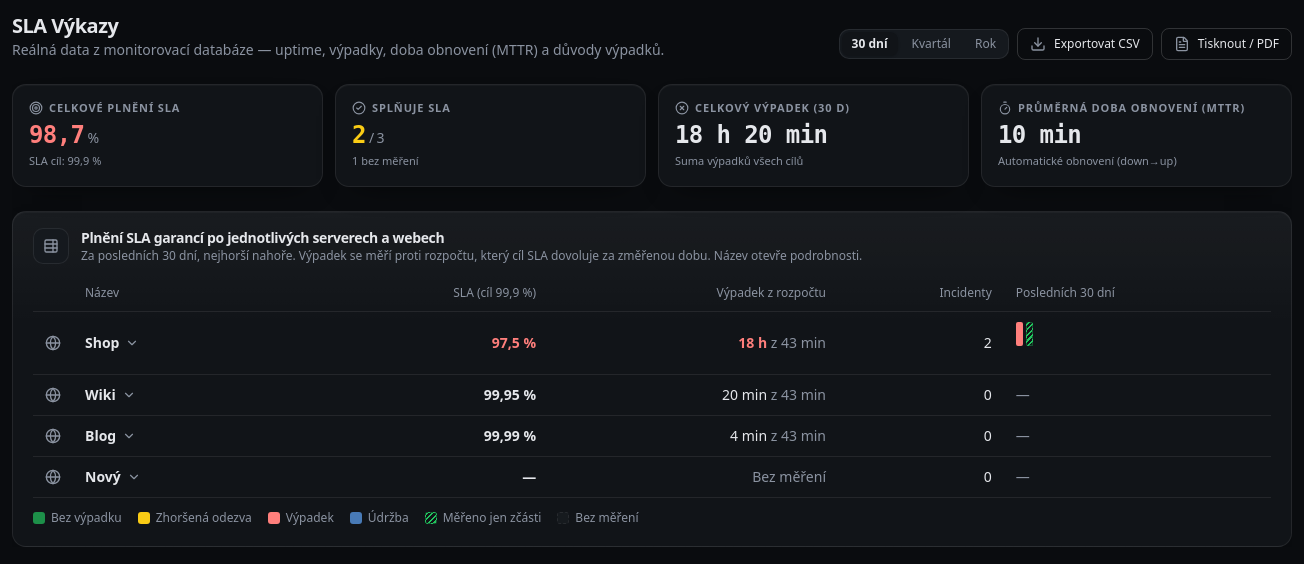
it: SLA výkaz jako jedna tabulka (W2-7) › selhané přepnutí období je chyba s opakováním, ne rada o cronu nad starými čísly
Expected: the button "Shop" is shown, [85, 333, 140, 353]
Click the button "Kvartál".
click(931, 44)  # box [902, 32, 961, 56]
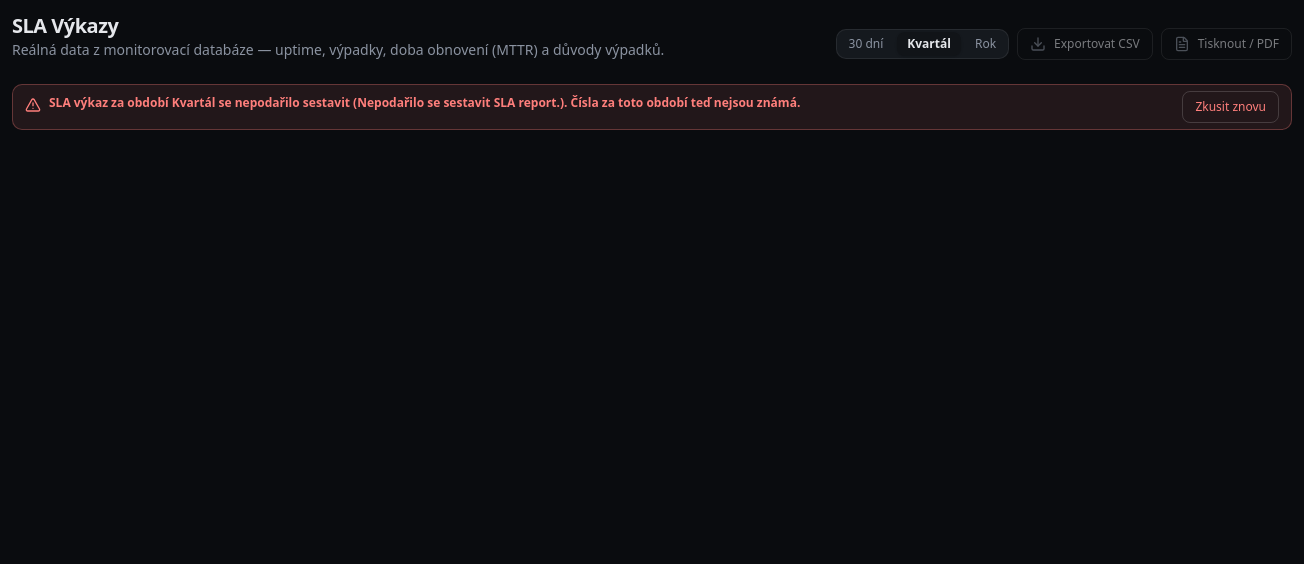
Result: the text "SLA výkaz za období Kvartál se nepodařilo sestavit" shows "Nepodařilo se sestavit SLA report." at [49, 94, 800, 111]
Result: the text "Celkové plnění SLA" is gone
Result: the button "Shop" is gone
Click the button "Zkusit znovu".
click(1231, 107)  # box [1182, 91, 1279, 123]
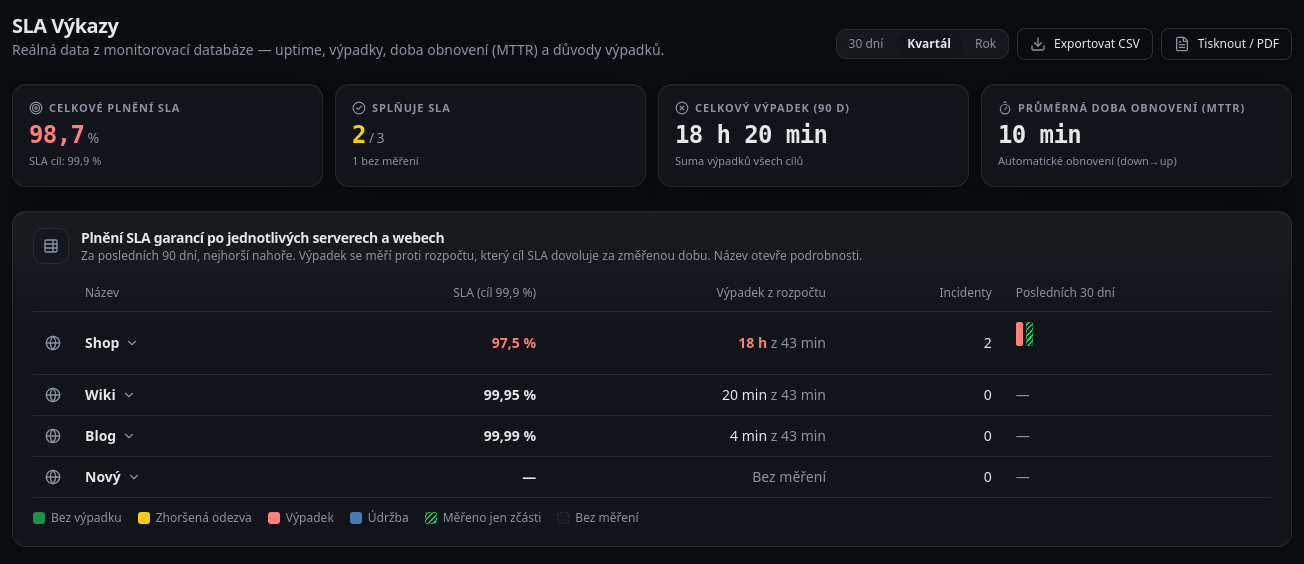
Result: the button "Shop" is shown at [85, 333, 140, 353]
